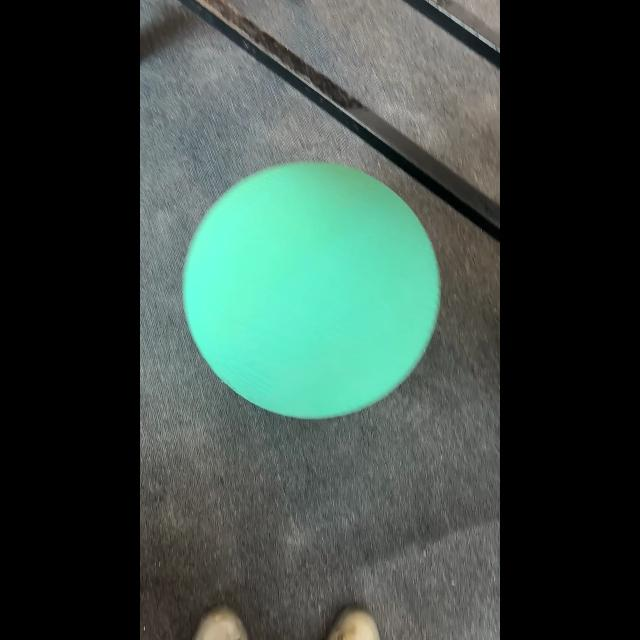ALGAE: (182, 160, 442, 420)
